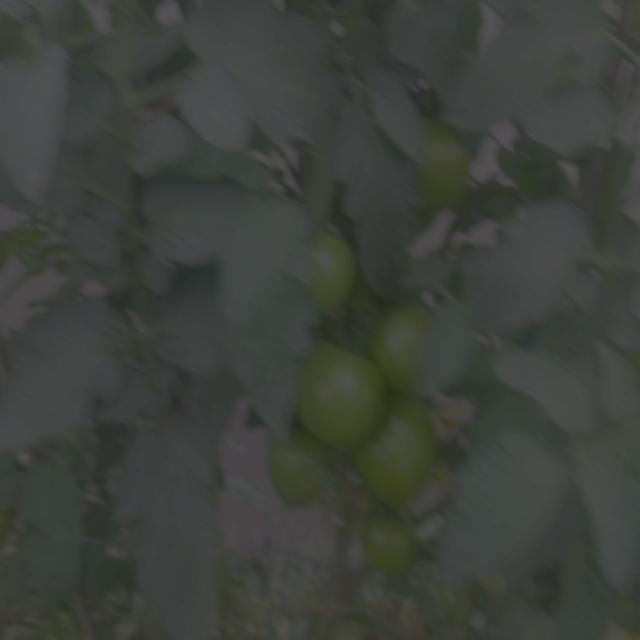tomato: (301, 326, 386, 459), (360, 393, 439, 507), (416, 112, 479, 219), (266, 437, 329, 510), (308, 230, 361, 315), (360, 510, 427, 573), (371, 301, 422, 380)
